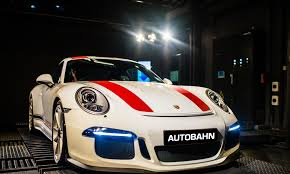car: (18, 45, 254, 174)
